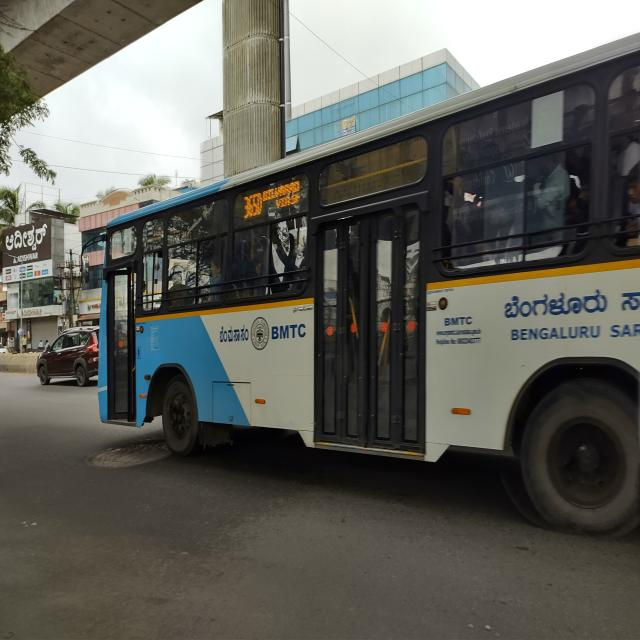bus: (87, 28, 639, 478)
display: (237, 177, 306, 221)
dnumber: (243, 192, 263, 218)
